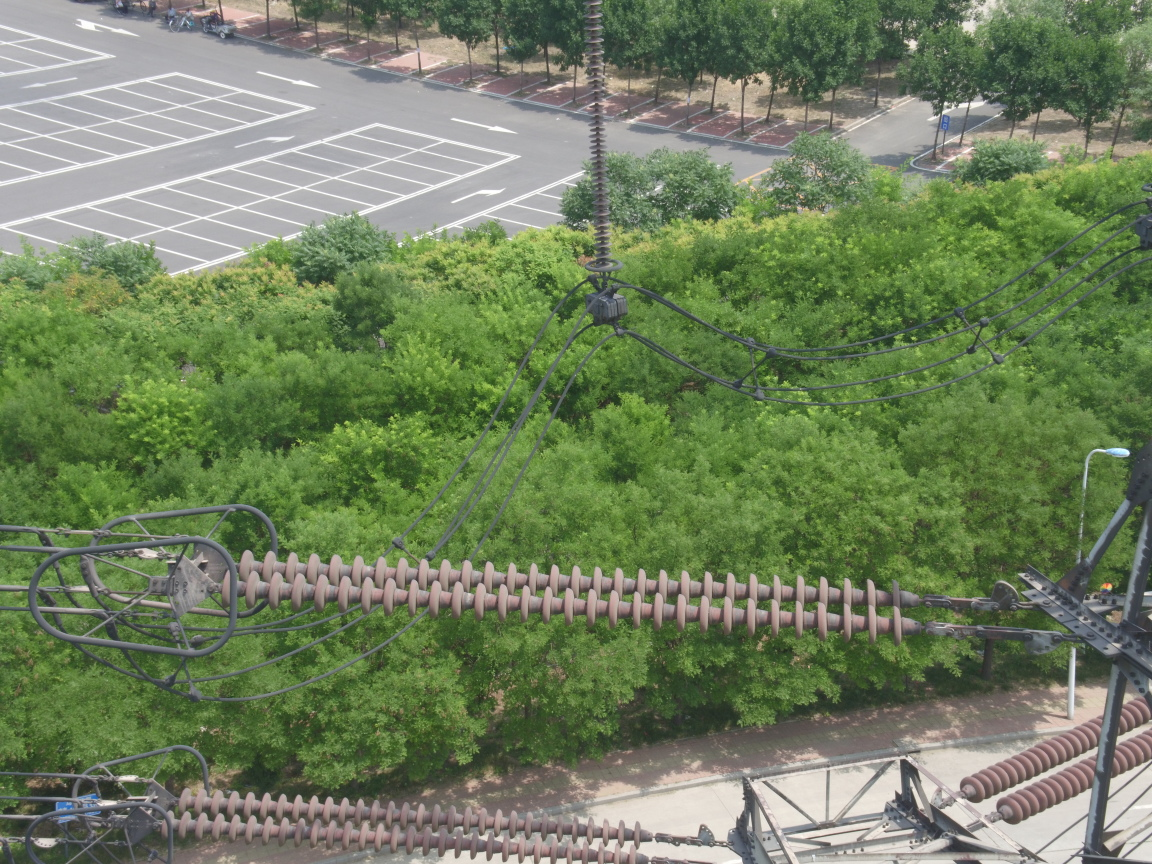insulator: (191, 538, 1001, 650), (137, 785, 700, 864), (949, 690, 1152, 830)
